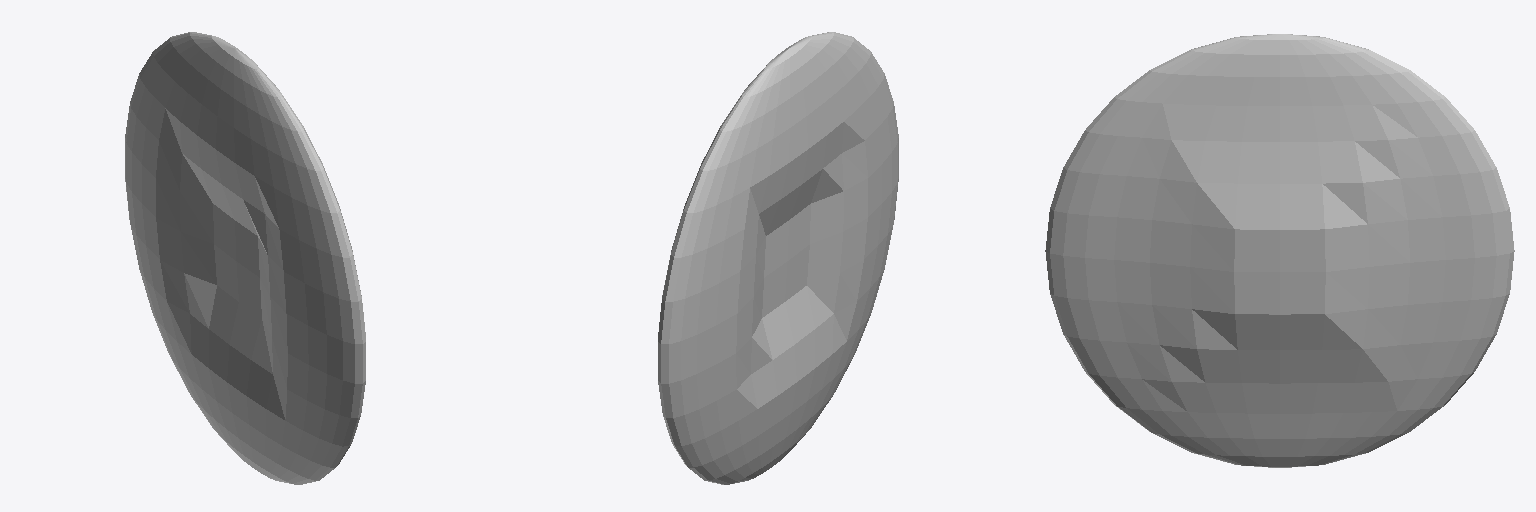
The model's file is shield_000005.obj.
The picture shows the model from 3 angles: view 1: azimuth 30°, elevation 25°; view 2: azimuth 150°, elevation 25°; view 3: azimuth 270°, elevation 25°; orthographic projection.
Size of the model in its own units: 0.3987 by 2 by 2.